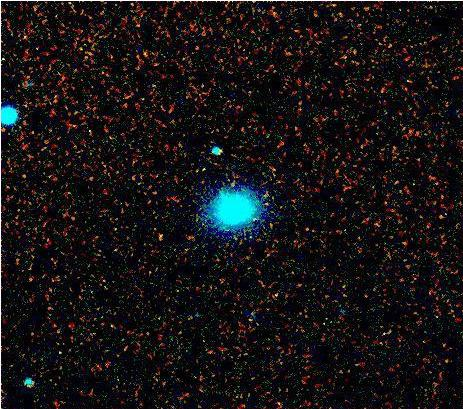star: (146, 221, 176, 251)
